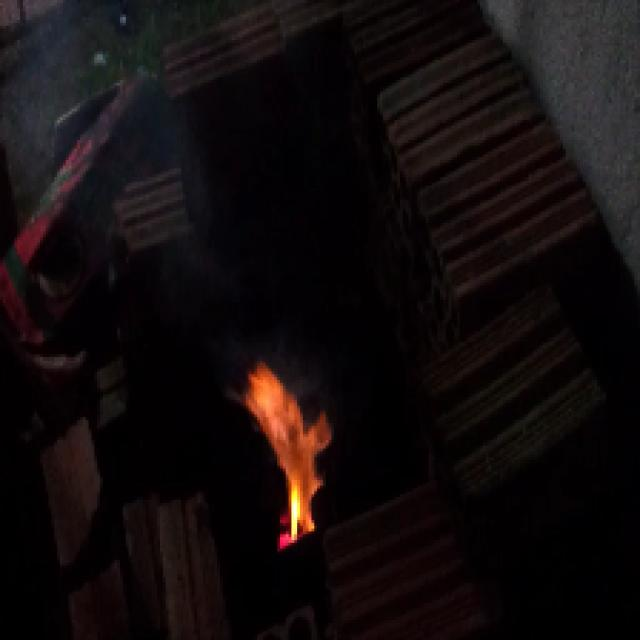fire: (232, 370, 330, 538)
